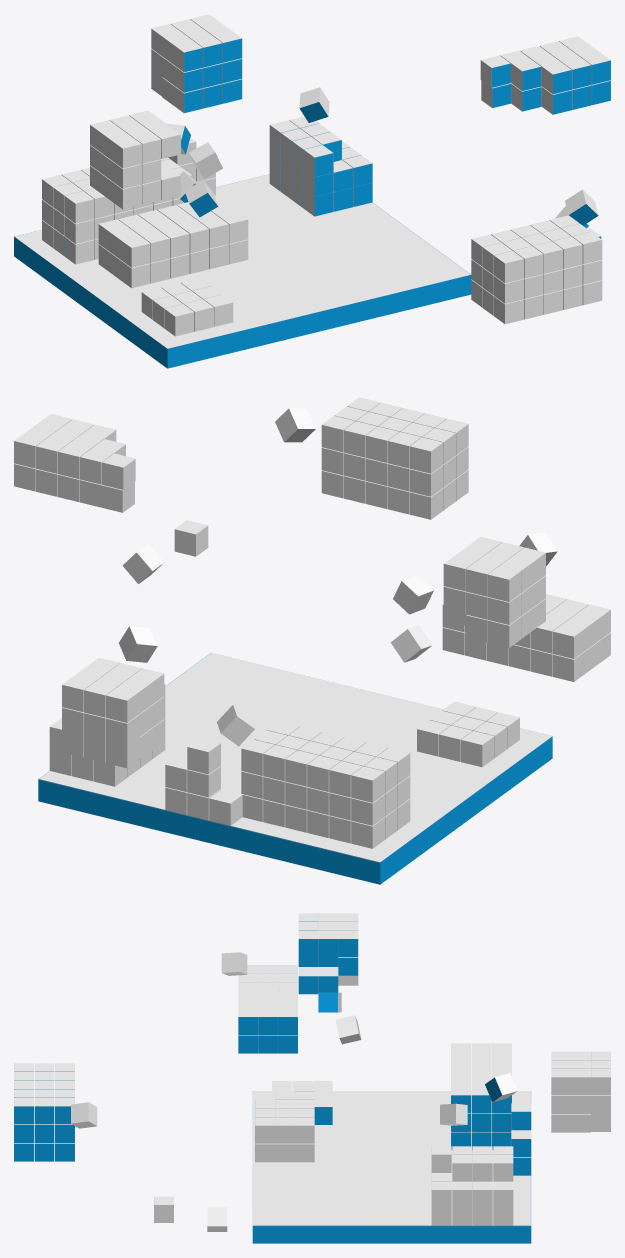
File: MESH_ENV_Tutorial_01.fbx
3 views of the same model, one above another, from view 1: azimuth 30°, elevation 25°; view 2: azimuth 150°, elevation 25°; view 3: azimuth 270°, elevation 25° (orthographic). The views are drawn at different scales.
Visible parts, largest first — view 1: pPlane1, polySurface160, polySurface53, polySurface235, polySurface67, polySurface246, polySurface232, pCube4, polySurface95, polySurface2, polySurface249, polySurface124 (+38 smaller); view 2: pPlane1, pCube4, pCube94, polySurface106, pCube99, polySurface7, polySurface54, pCube267, polySurface69, polySurface197, polySurface138, polySurface161 (+38 smaller); view 3: pPlane1, pCube90, pCube94, pCube259, pCube4, polySurface22, polySurface199, polySurface232, polySurface45, polySurface210, polySurface211, polySurface219 (+26 smaller).
Part boxes in pixels (box(x1,y1,x2,y2)): pPlane1: box(14, 174, 471, 368); polySurface160: box(64, 191, 94, 223); polySurface53: box(120, 235, 150, 267); polySurface235: box(511, 58, 541, 90); polySurface67: box(164, 304, 194, 336); polySurface246: box(480, 55, 510, 87); polySurface232: box(303, 145, 333, 177); pCube4: box(299, 87, 329, 122); polySurface95: box(494, 251, 523, 283); polySurface2: box(112, 136, 141, 168); polySurface249: box(542, 62, 571, 94); polySurface124: box(173, 40, 202, 72); pPlane1: box(38, 652, 552, 884); pCube4: box(119, 626, 157, 662); pCube94: box(275, 408, 315, 442); polySurface106: box(409, 437, 443, 473); pCube99: box(174, 520, 208, 556); polySurface7: box(487, 565, 521, 601); polySurface54: box(552, 622, 586, 658); pCube267: box(393, 575, 433, 614); polySurface69: box(461, 731, 494, 767); polySurface197: box(209, 789, 242, 825); polySurface138: box(106, 686, 139, 722); polySurface161: box(351, 766, 384, 802); pPlane1: box(252, 1091, 531, 1243); pCube90: box(485, 1073, 517, 1102); pCube94: box(71, 1102, 97, 1128); pCube259: box(221, 952, 247, 975); pCube4: box(440, 1103, 467, 1125); polySurface22: box(298, 967, 318, 994); polySurface199: box(511, 1103, 531, 1129); polySurface232: box(431, 1146, 451, 1172); polySurface45: box(238, 1008, 258, 1034); polySurface210: box(493, 1181, 513, 1207); polySurface211: box(452, 1181, 472, 1207); polySurface219: box(472, 1155, 492, 1181).
Size of the model in its own units: 25.73 by 10.37 by 29.98.
1 material, 1 textured.
